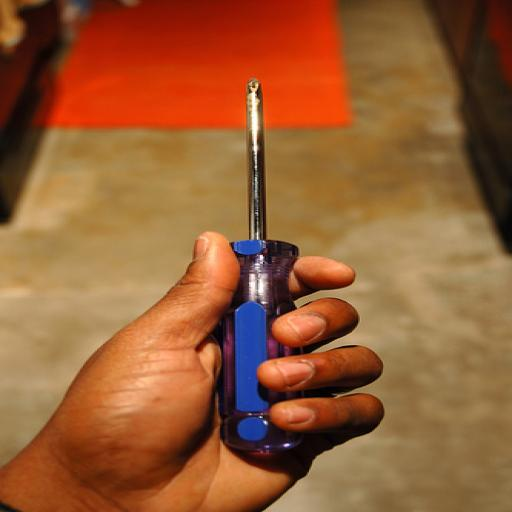screwdriver: (218, 77, 299, 455)
